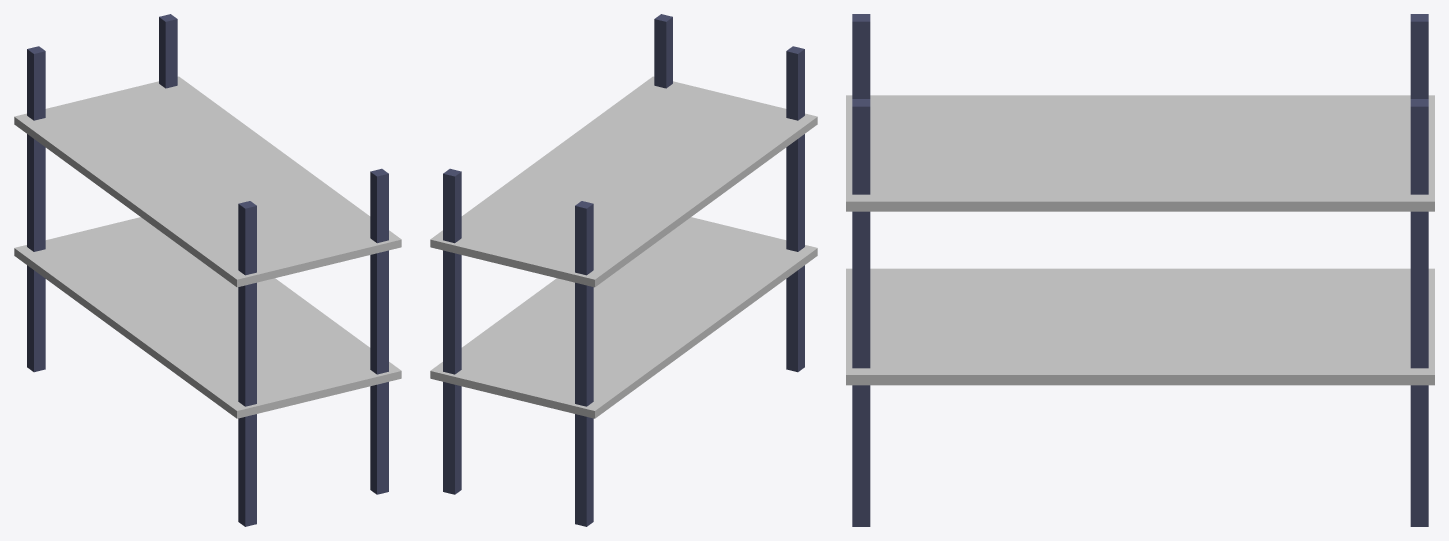
The model's file is gr_rSingleShelf.fbx.
The picture shows the model from 3 angles, left to right: view 1: azimuth 30°, elevation 25°; view 2: azimuth 150°, elevation 25°; view 3: azimuth 270°, elevation 25°; orthographic projection. The views are drawn at different scales.
Visible parts, largest first — view 1: SingleShelf; view 2: SingleShelf; view 3: SingleShelf.
Part boxes in pixels (x1=…): SingleShelf: x1=14, y1=14, x2=401, y2=526; SingleShelf: x1=430, y1=14, x2=817, y2=526; SingleShelf: x1=846, y1=14, x2=1434, y2=526.
Bounding box in the file's own units: 183 × 338 × 429.
